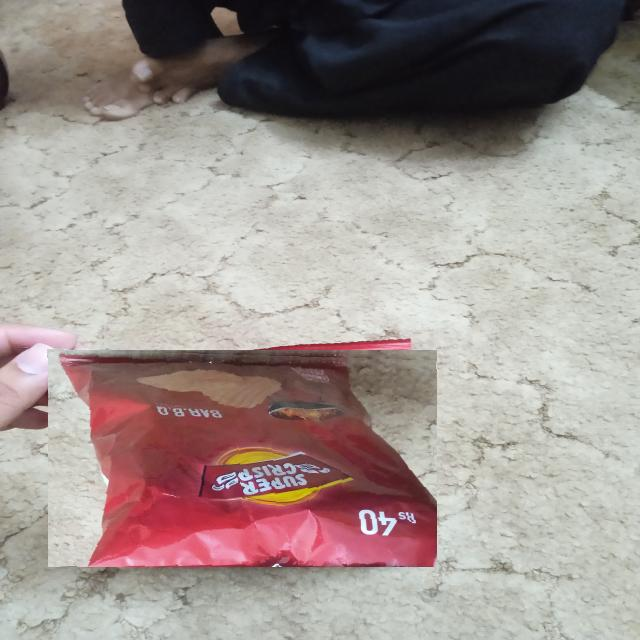Plastic: (48, 350, 438, 568)
